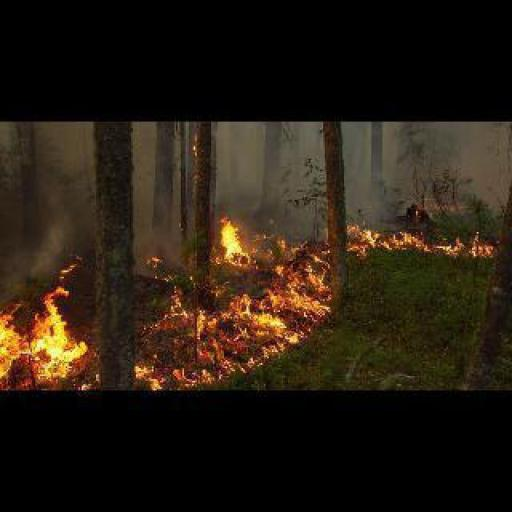smoke: (2, 219, 332, 386), (348, 200, 502, 261)
